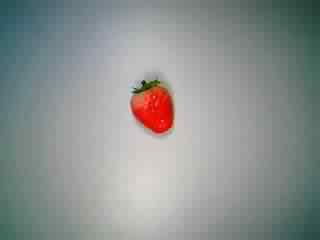strawberry: (119, 76, 185, 138)
